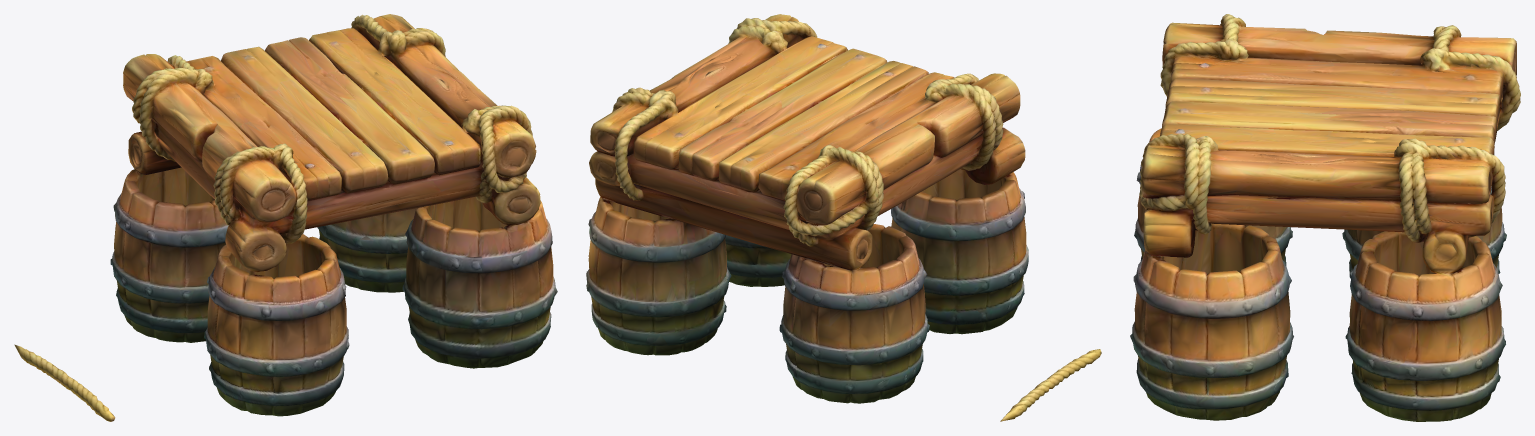
Rendered from sal.glb.
3 views of the same model, side by side, from view 1: azimuth 30°, elevation 25°; view 2: azimuth 150°, elevation 25°; view 3: azimuth 270°, elevation 25° (orthographic). The views are drawn at different scales.
Visible parts, largest first — view 1: tripo_node_1f8df01d-004b-42dd-a3ee-603ec90677ff; view 2: tripo_node_1f8df01d-004b-42dd-a3ee-603ec90677ff; view 3: tripo_node_1f8df01d-004b-42dd-a3ee-603ec90677ff.
Boxes of the visible parts, box(x1,y1,x2,y2) form: tripo_node_1f8df01d-004b-42dd-a3ee-603ec90677ff: box(14, 14, 557, 421); tripo_node_1f8df01d-004b-42dd-a3ee-603ec90677ff: box(586, 14, 1101, 421); tripo_node_1f8df01d-004b-42dd-a3ee-603ec90677ff: box(1130, 14, 1520, 421).
Bounding box in the file's own units: 0.9792 × 0.5271 × 0.718.
1 material, 1 textured.
